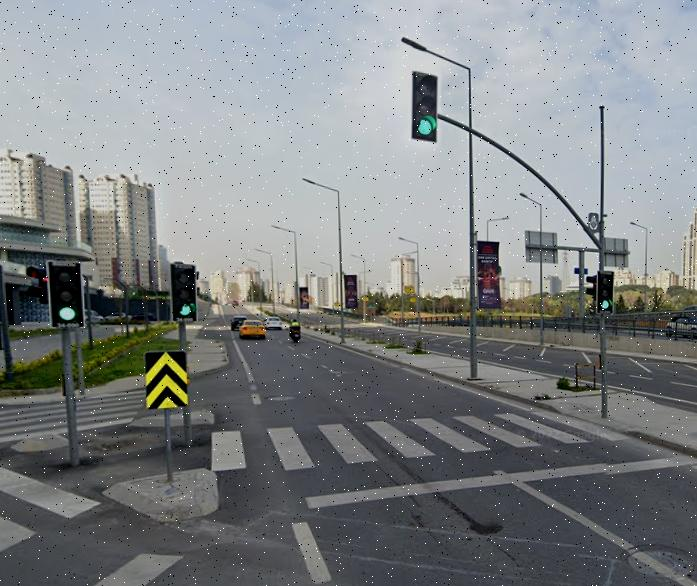greenlight: (40, 250, 81, 323), (411, 75, 436, 140), (177, 259, 197, 318), (598, 273, 611, 310)
